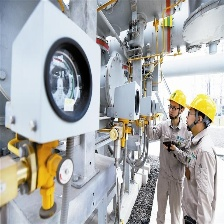helmet: (189, 94, 216, 121), (168, 86, 187, 111)
person: (153, 88, 189, 224), (184, 90, 220, 224)
